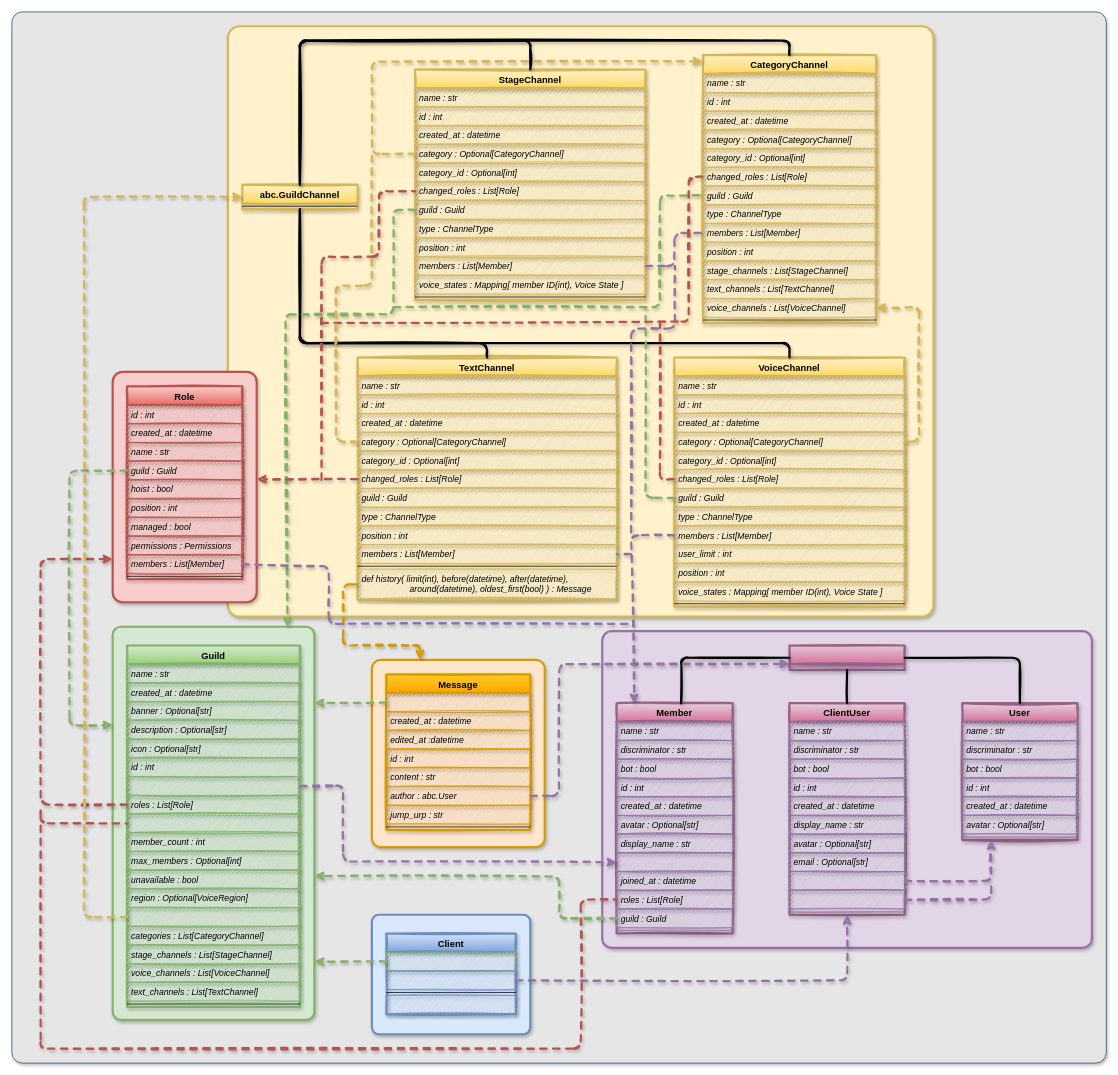
Some shapes in this 1118 by 1075 pixel diagram are drawn without their labels. Here are the shapes that lost their labels. From the top down, the centre of each, then its label:
(x=847, y=658): abc.User
(x=459, y=703): guild : Optional[Guild]
(x=213, y=786): owner : Optional[Member]
(x=213, y=824): self_role : List[Role]
(x=675, y=863): nick : Optional[str]
(x=847, y=881): friends : List[User]
(x=213, y=917): channels : List[abc.GuildChannel]
(x=847, y=900): relationships : List[User]
(x=451, y=962): guilds : List[Guild]
(x=451, y=981): user : Optional[clientUser]
(x=451, y=1005): await start( token, bot(bool) )
